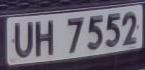2: (120, 9, 140, 49)
5: (85, 13, 105, 51), (104, 9, 122, 48)
7: (64, 14, 86, 54)
H: (34, 18, 59, 58)
U: (12, 17, 35, 64)
